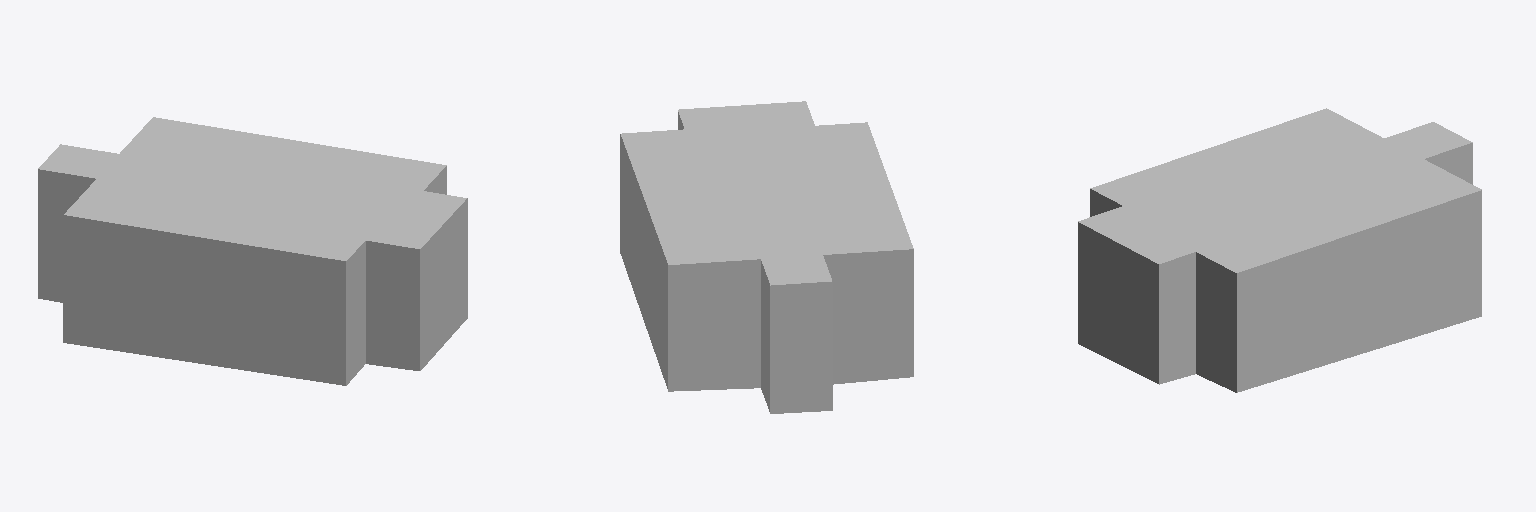
The model's file is Cerkov1.obj.
3 renders of one model, left to right at view 1: azimuth 30°, elevation 25°; view 2: azimuth 150°, elevation 25°; view 3: azimuth 270°, elevation 25°, orthographic.
Visible parts, largest first — view 1: Areas:building.009; view 2: Areas:building.009; view 3: Areas:building.009.
Part boxes in pixels (bbox=[...]): Areas:building.009: bbox=[38, 117, 467, 385]; Areas:building.009: bbox=[620, 101, 913, 413]; Areas:building.009: bbox=[1078, 108, 1481, 392].
Bounding box in the file's own units: 59.2 × 21.8 × 61.33.